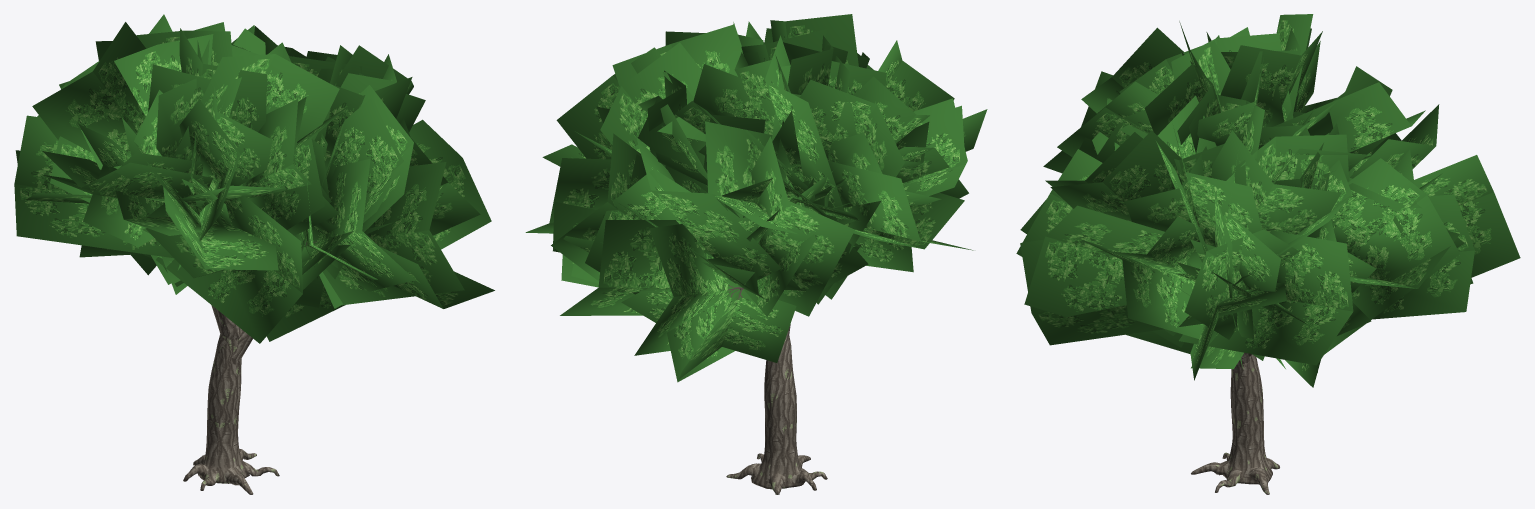
Rendered from environment_elm3_v56.fbx.
3 views of the same model, side by side, from view 1: azimuth 30°, elevation 25°; view 2: azimuth 150°, elevation 25°; view 3: azimuth 270°, elevation 25° (orthographic). The views are drawn at different scales.
Visible parts, largest first — view 1: environment_elm3_v56_lod0; view 2: environment_elm3_v56_lod0; view 3: environment_elm3_v56_lod0.
Boxes of the visible parts, x1,y1,x2,y2 form: environment_elm3_v56_lod0: [14, 14, 494, 494]; environment_elm3_v56_lod0: [525, 14, 987, 494]; environment_elm3_v56_lod0: [1016, 14, 1520, 494].
Size of what is drawn, in the model's own units: 2871 by 2796 by 2917.
2 materials, 2 textured.
